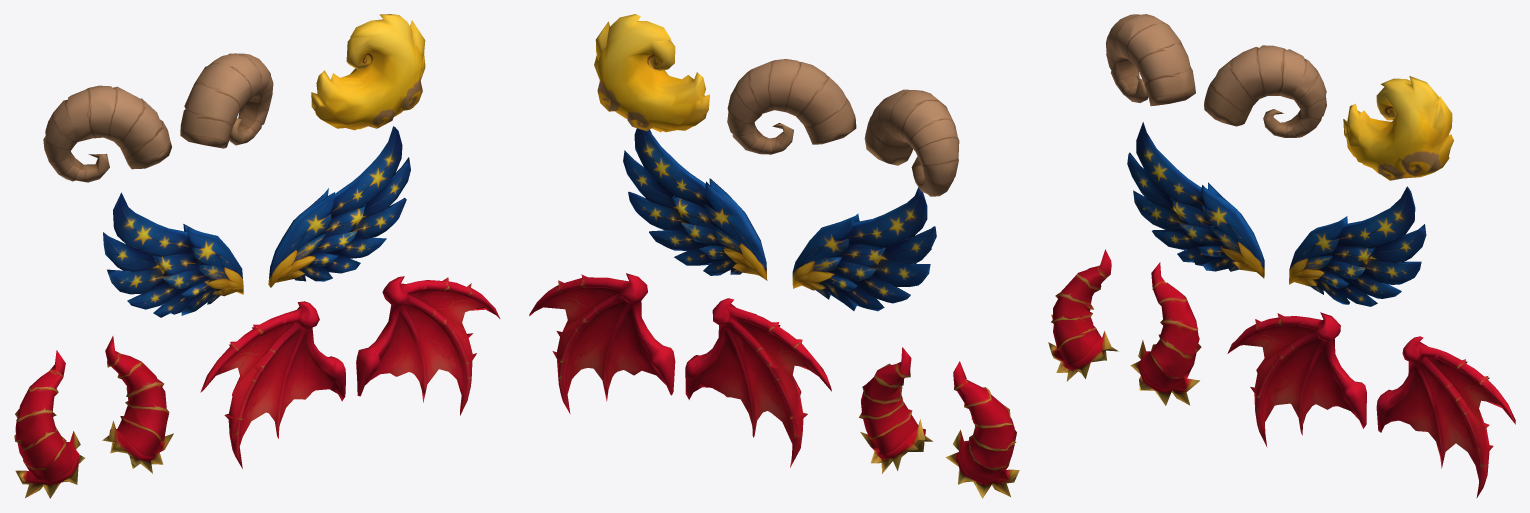
File: fantasy_wings_b.glb
3 views of the same model, side by side, from view 1: azimuth 30°, elevation 25°; view 2: azimuth 150°, elevation 25°; view 3: azimuth 330°, elevation 25° (orthographic). The views are drawn at different scales.
Visible parts, largest first — view 1: tripo_node_74158648-9662-4f00-883d-83df6ef94ec0; view 2: tripo_node_74158648-9662-4f00-883d-83df6ef94ec0; view 3: tripo_node_74158648-9662-4f00-883d-83df6ef94ec0.
Part boxes in pixels (x1,y1,x2,y2): tripo_node_74158648-9662-4f00-883d-83df6ef94ec0: (14,14,500,498); tripo_node_74158648-9662-4f00-883d-83df6ef94ec0: (529,14,1019,498); tripo_node_74158648-9662-4f00-883d-83df6ef94ec0: (1048,14,1515,497).
Size of the model in its own units: 1 by 0.8203 by 0.151.
Materials: 1 (1 with a texture image).
